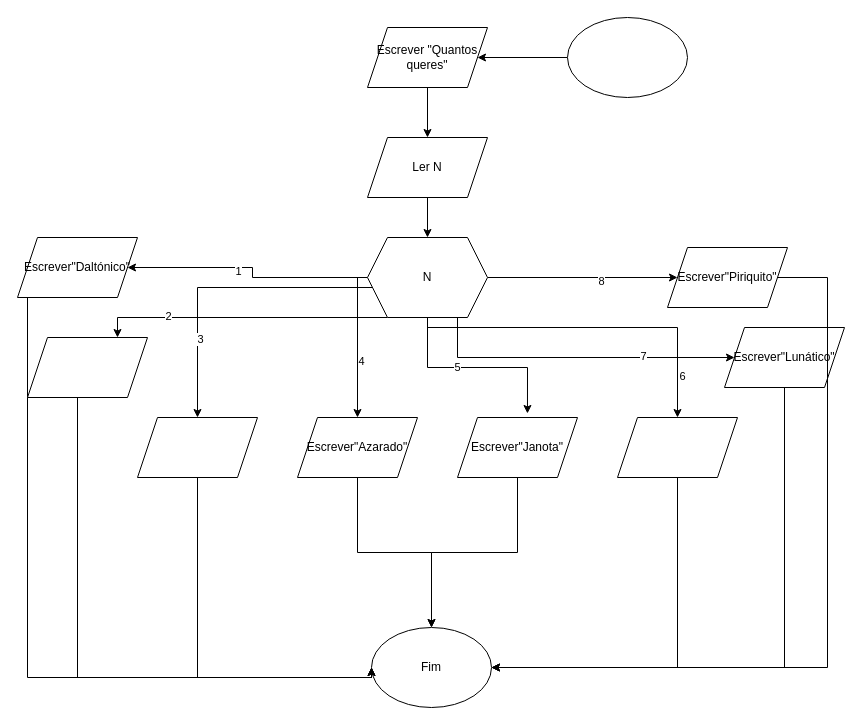
This 862x725 diagram has some shape labels left out. Here are the shapes that lost their labels. From the top down, the centre of each, then its label:
(x=627, y=57): Ínicio
(x=87, y=367): Escrever"Suricata"
(x=197, y=447): Escrever"Inteligente"
(x=677, y=447): Escrever"Cego"
